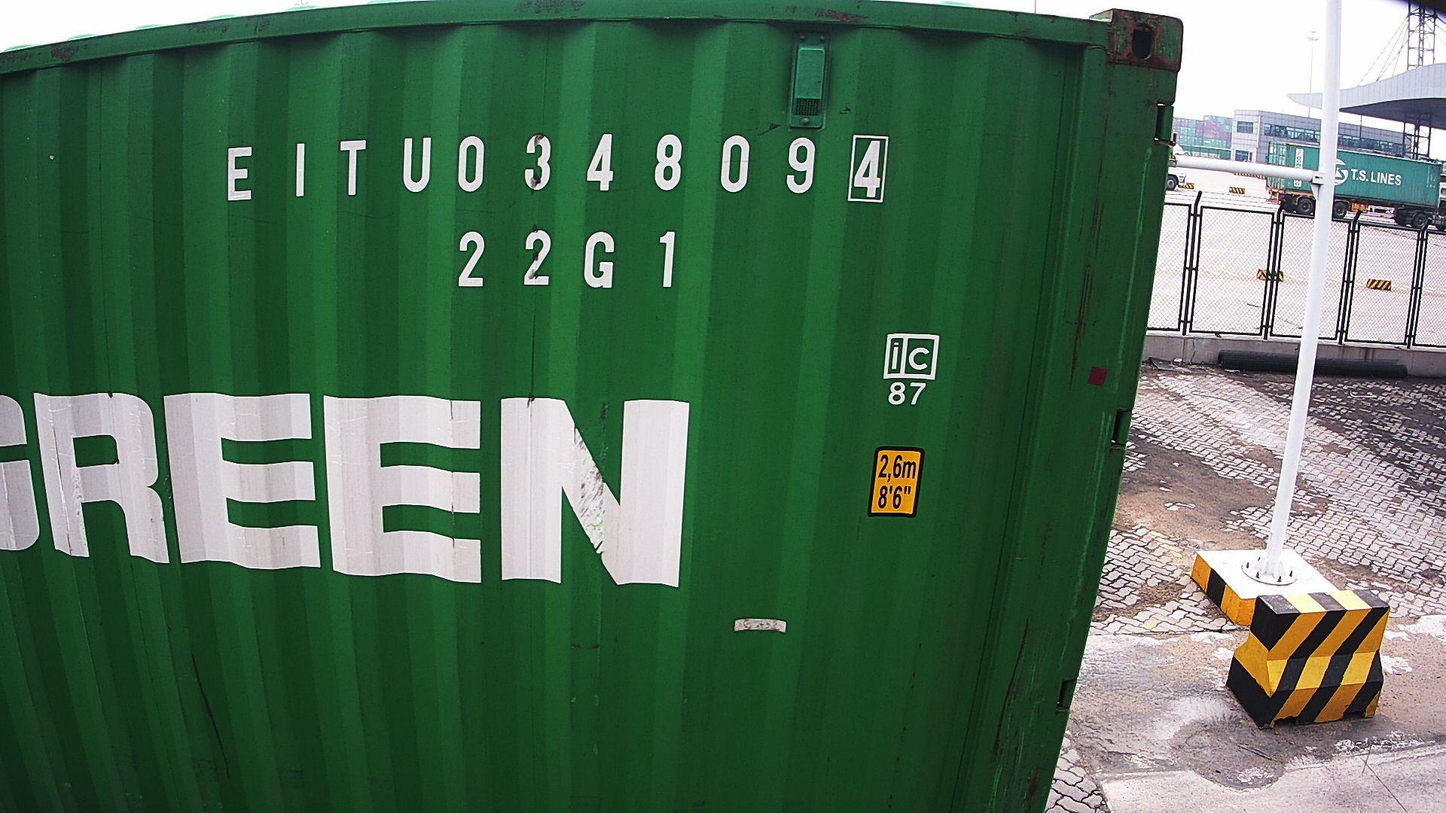container-numbers: (218, 128, 894, 209), (450, 224, 685, 296)
